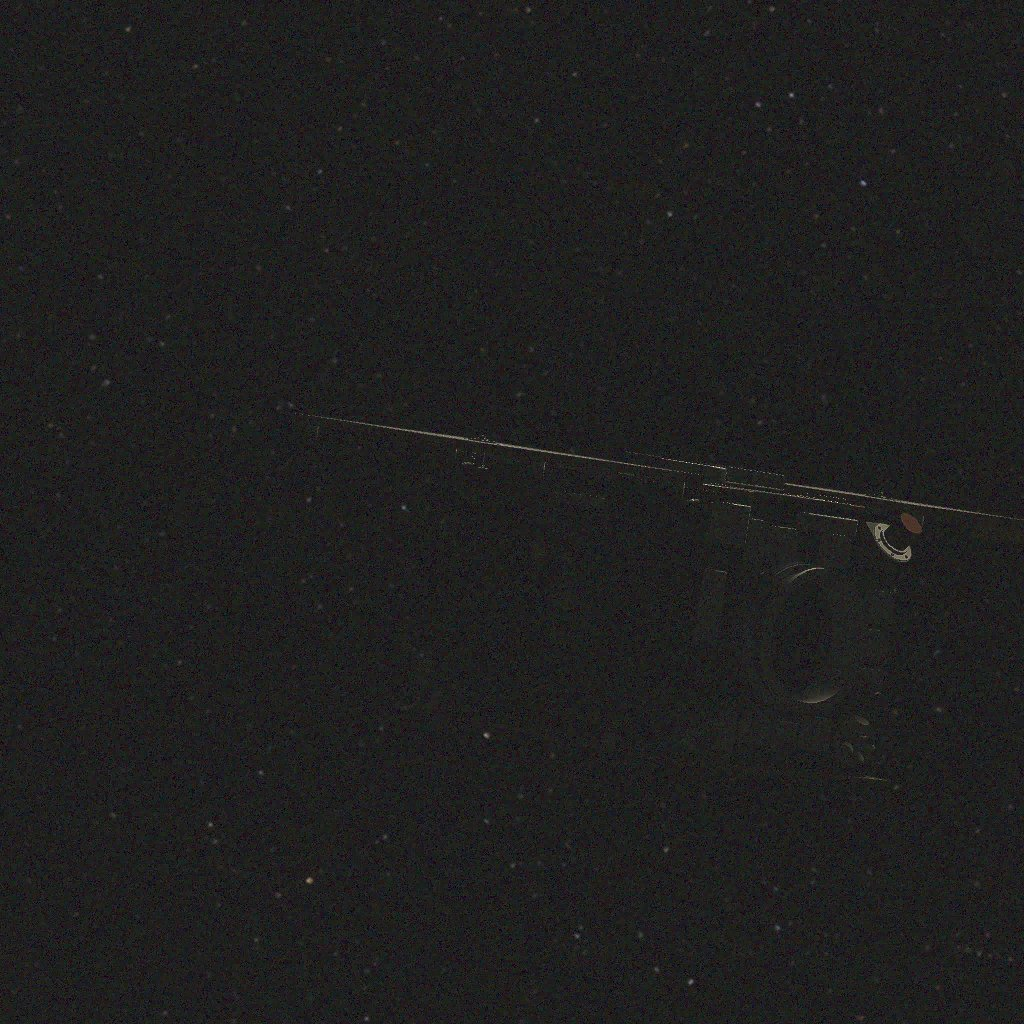proba_2: (291, 413, 1024, 785)
